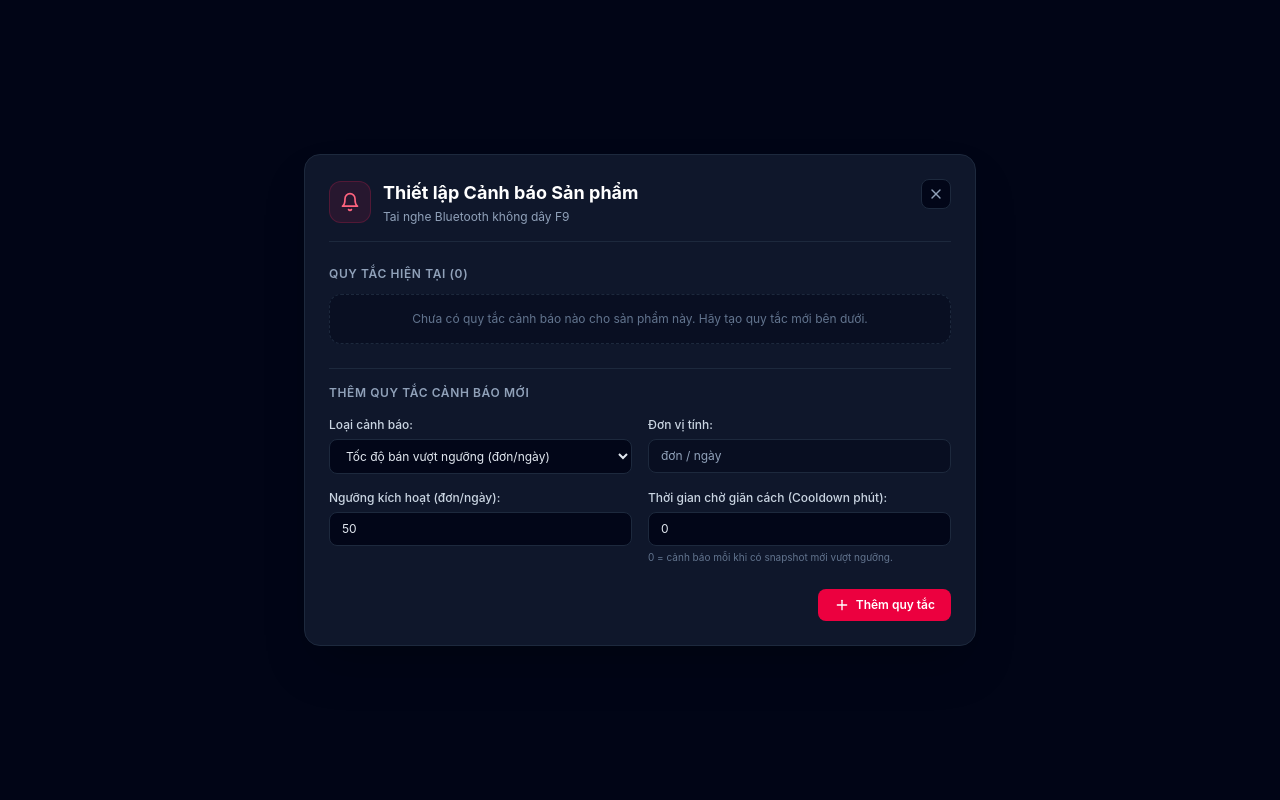
Test case: Phase 3 Frontend: Watchlist & Alerts Suite › AlertRuleModal Component › rejects invalid threshold input with clear validation error
Replace the text in the number field with placeholder "Ví dụ: 50" with "-5" at x=480, y=529, box [329,512,632,546]
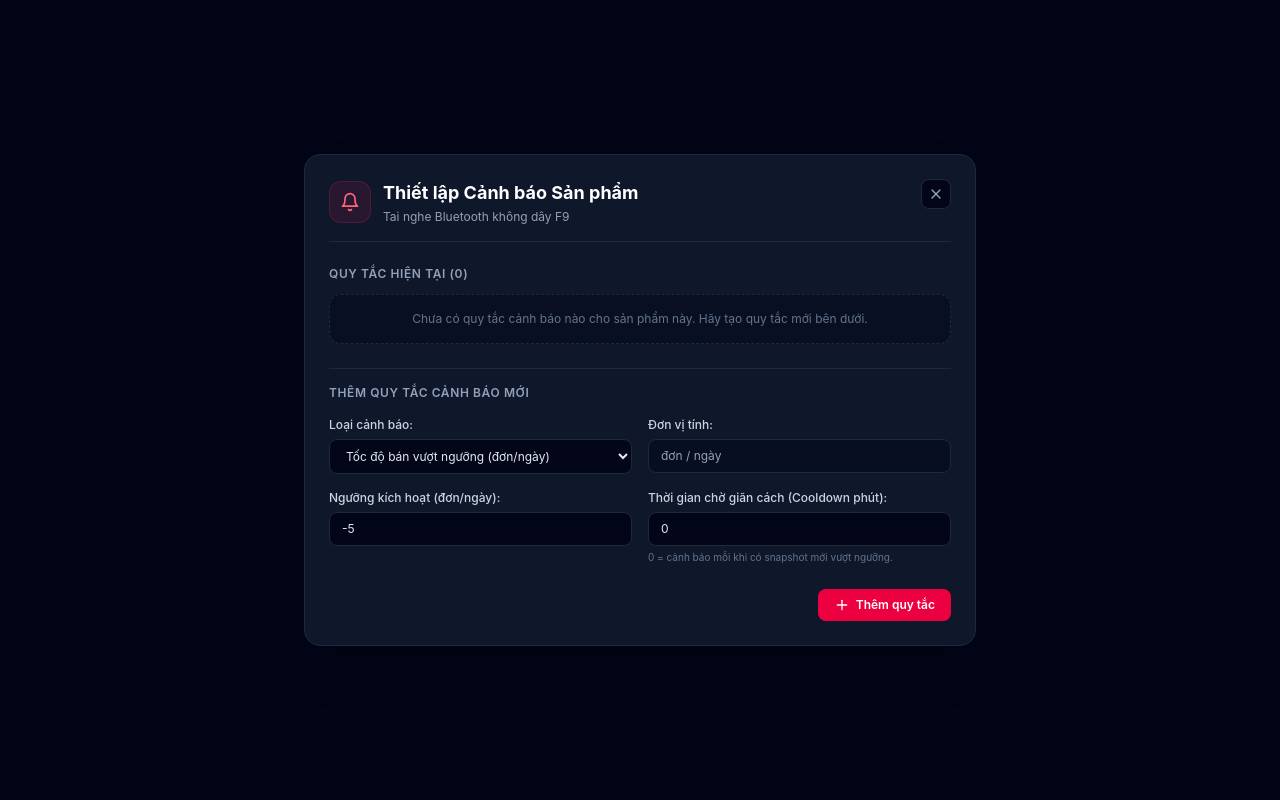
Click the button "Thêm quy tắc" at x=884, y=605, box [818,589,951,621]
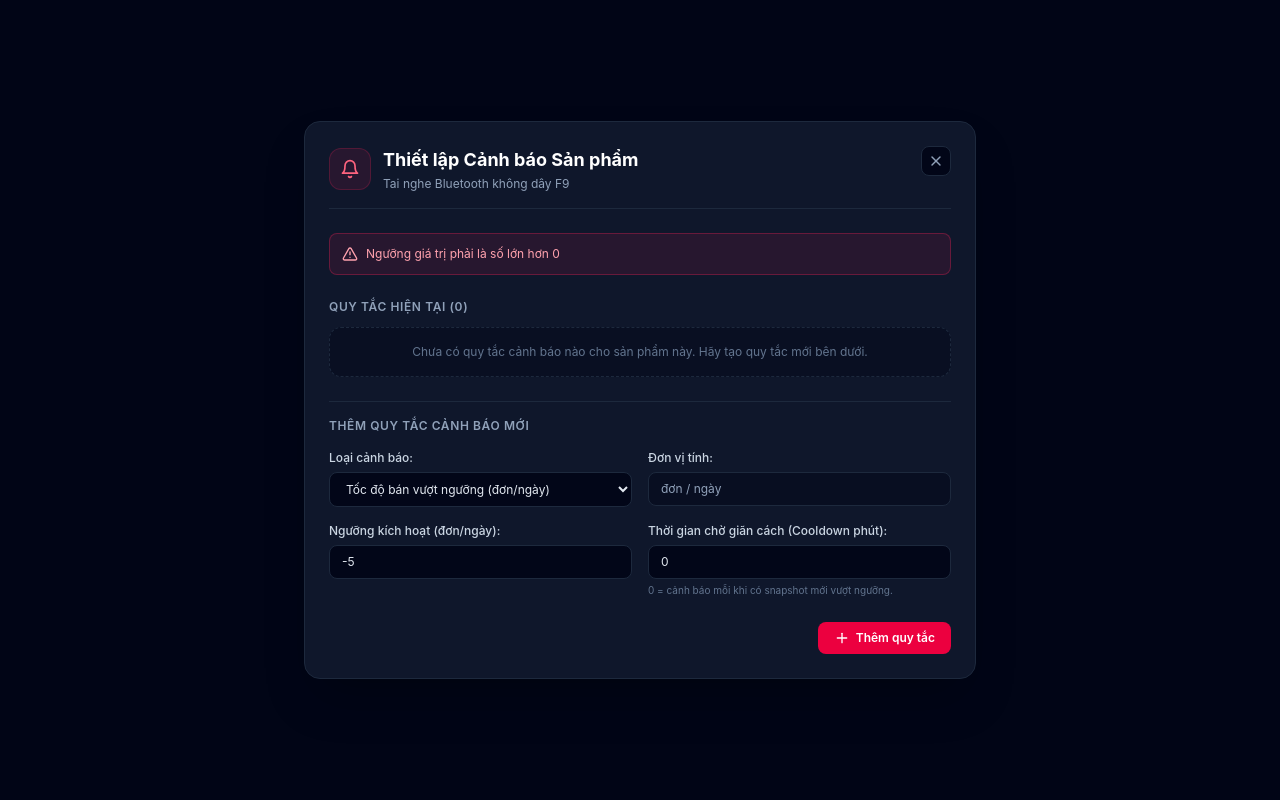
Expected: the message reads "Ngưỡng giá trị phải là số lớn hơn 0", [366,246,560,261]
